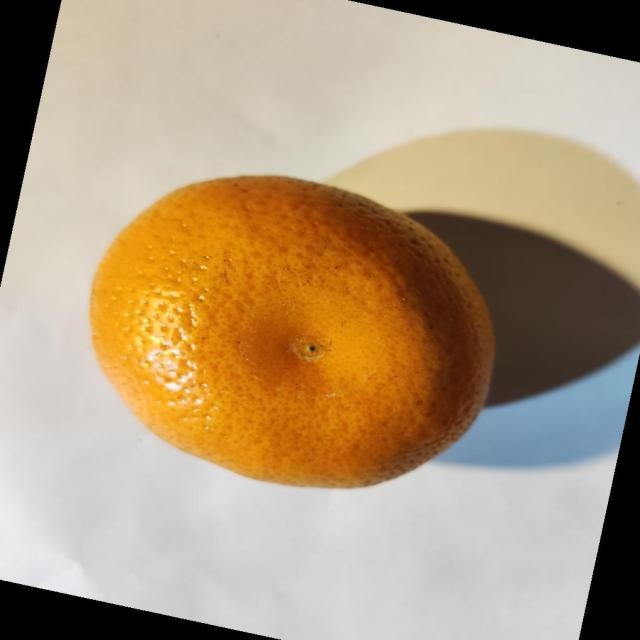agrume: (88, 173, 496, 490)
